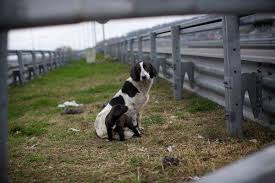dog_sitting: (93, 60, 156, 143)
